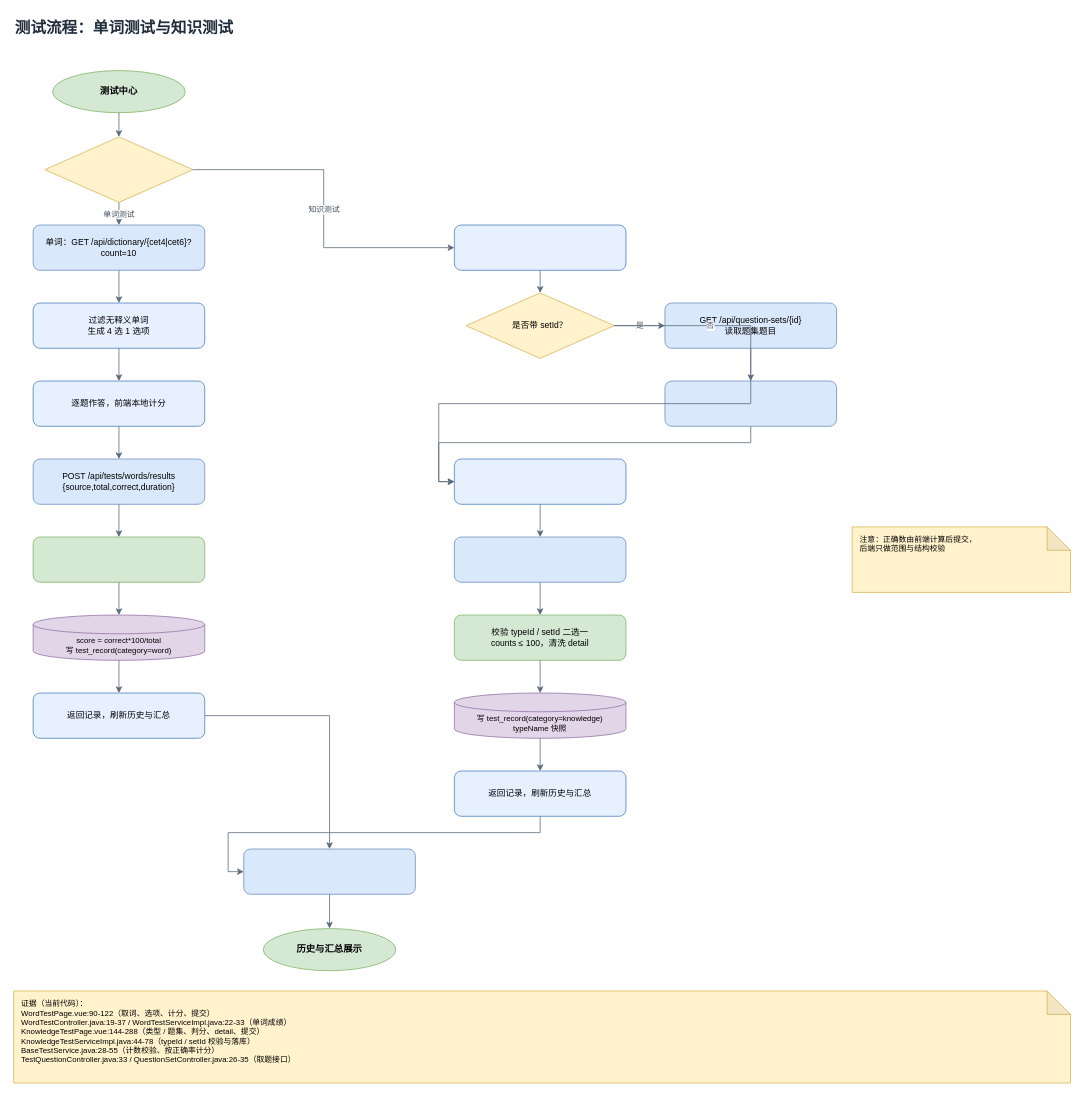
This 1084x1097 diagram has some shape labels left out. The shapes that lost their labels are listed below. From the top down, each one's box as (x1, y1, x2, y2) in pixels, then its label:
(44, 136, 193, 202): 选择测试类型
(454, 224, 626, 270): 知识：普通模式 / 课程题集模式
(664, 380, 837, 426): GET /api/test-types → GET /api/test-questions?typeId&count
(454, 458, 626, 504): 题型 single / multiple / blank 前端逐题判分并生成 detail
(32, 536, 205, 582): validateCounts source ∈ cet4 / cet6
(454, 536, 626, 582): POST /api/tests/knowledge/results {typeId XOR setId,total,correct,detail}
(243, 848, 415, 894): GET /api/tests/{words|knowledge}/history 汇总平均分 / 最高分 / 正确率
